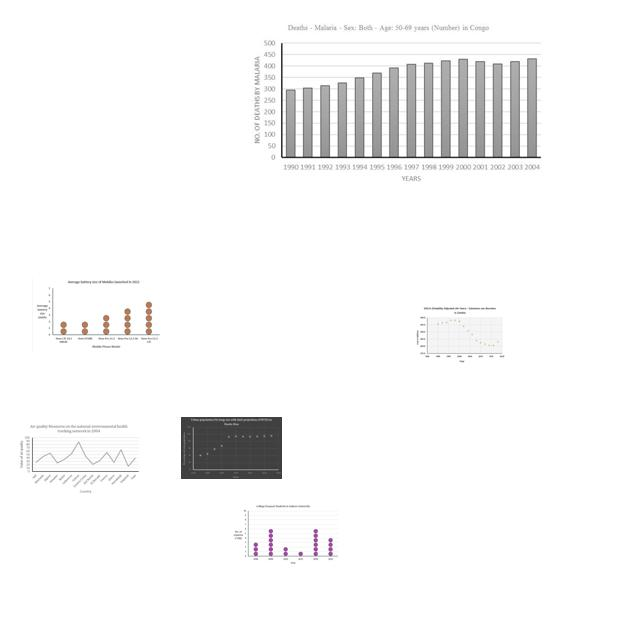Graph: (246, 18, 549, 188), (32, 278, 163, 351), (17, 422, 142, 496), (231, 503, 340, 567), (181, 417, 282, 479), (415, 306, 505, 363)
